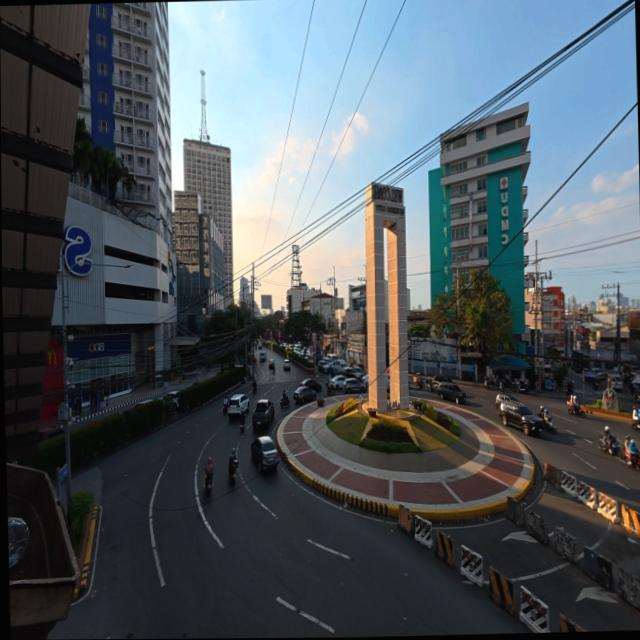car: (500, 402, 541, 435), (250, 436, 278, 471), (436, 382, 465, 403), (227, 394, 248, 418), (495, 393, 520, 412), (37, 427, 62, 443), (293, 387, 315, 404), (432, 374, 452, 391), (344, 377, 365, 392), (162, 391, 178, 409), (302, 379, 321, 392), (317, 358, 332, 373), (329, 375, 345, 389), (132, 399, 153, 408), (318, 361, 331, 375), (350, 367, 364, 380), (326, 365, 340, 377), (340, 365, 353, 376), (317, 360, 327, 373), (336, 359, 346, 370), (258, 350, 267, 362), (360, 373, 368, 384), (268, 359, 274, 370), (283, 359, 289, 370)
motorcycle: (598, 437, 624, 459), (540, 414, 556, 434), (566, 401, 584, 418), (624, 450, 639, 470), (498, 376, 515, 390), (228, 459, 237, 483), (515, 379, 528, 393), (204, 474, 212, 495), (484, 376, 496, 389), (563, 382, 573, 395), (279, 397, 289, 407), (326, 384, 334, 395), (631, 420, 639, 430), (239, 419, 243, 434), (222, 403, 227, 413), (252, 381, 256, 393)
trucks: (251, 399, 273, 428)
vans: (609, 375, 622, 390), (328, 354, 338, 362)
